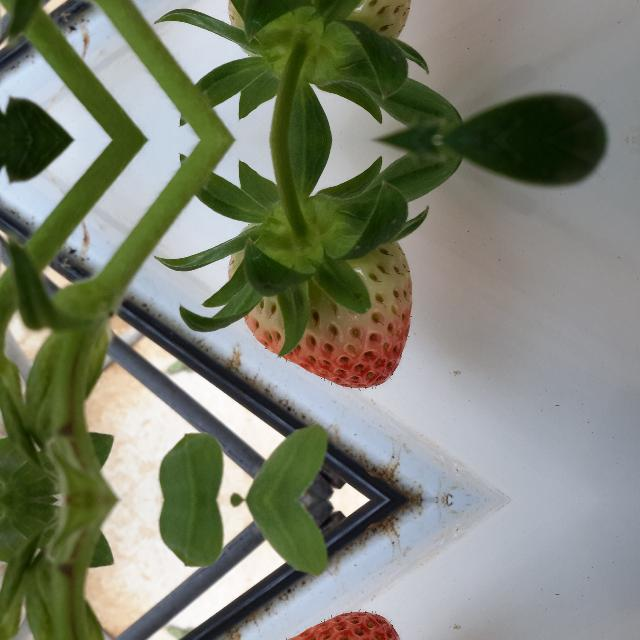Health_75: (228, 223, 412, 391), (228, 0, 412, 57)
